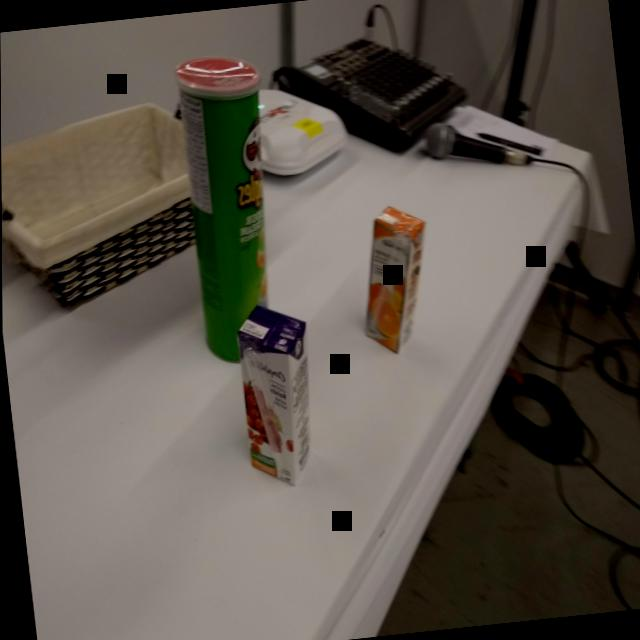grape_juice: (227, 294, 327, 491)
orange_juice: (347, 199, 441, 361)
pringles: (169, 46, 294, 371)
